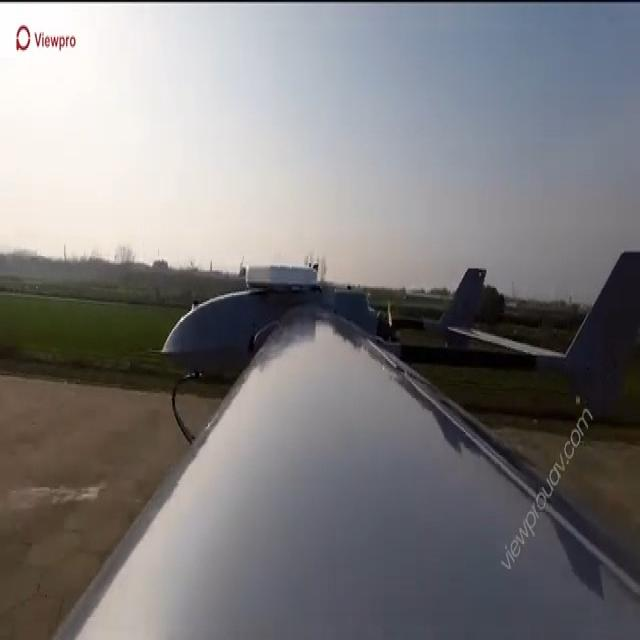drones: (155, 241, 640, 460)
